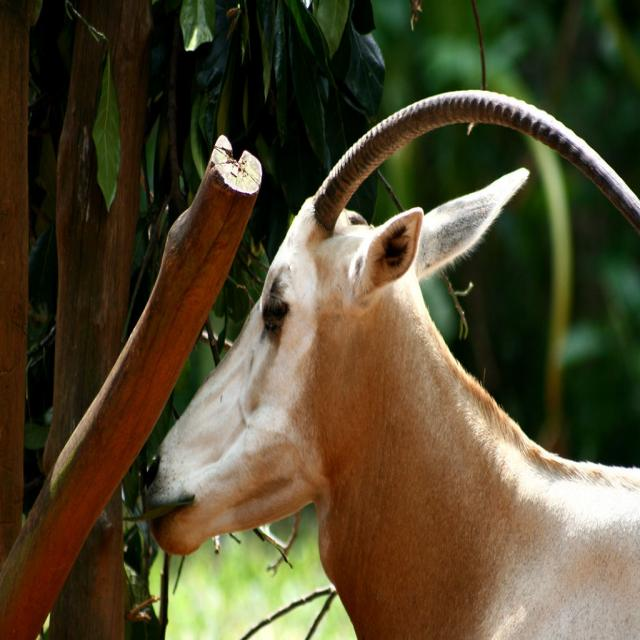Goat: (146, 88, 640, 640)
